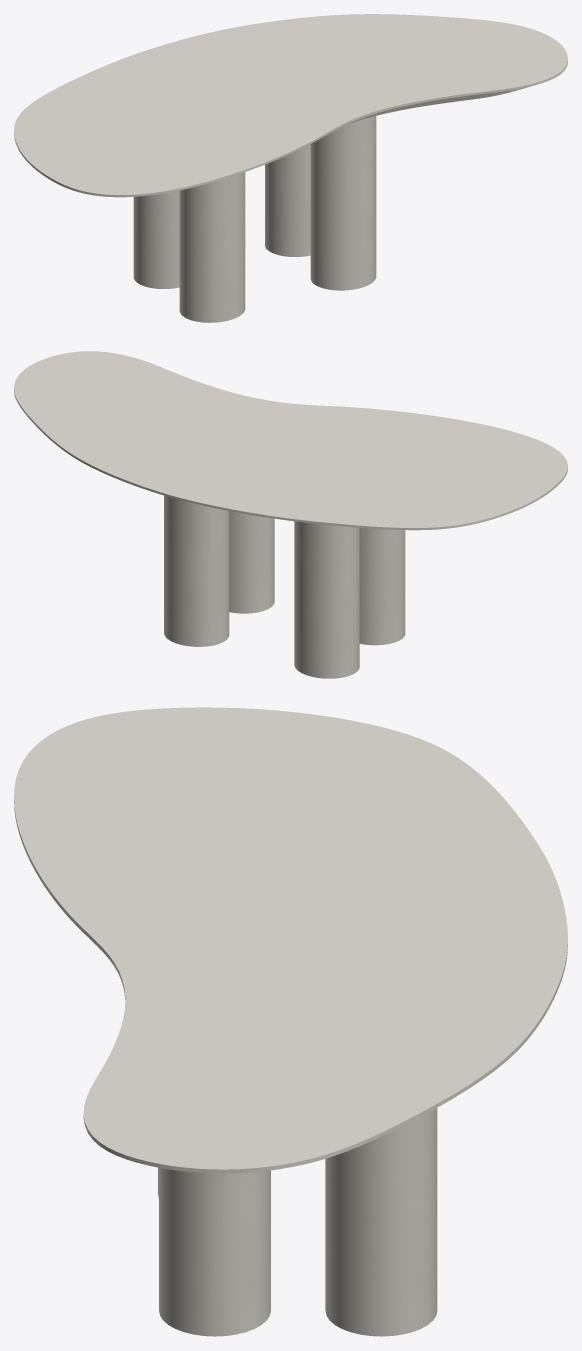
File: pale_leaf1_facet_grove.glb
3 views of the same model, one above another, from view 1: azimuth 30°, elevation 25°; view 2: azimuth 150°, elevation 25°; view 3: azimuth 270°, elevation 25° (orthographic). The views are drawn at different scales.
Visible parts, largest first — view 1: facet_leaf1, grove; view 2: facet_leaf1, grove; view 3: facet_leaf1, grove.
Boxes of the visible parts, bbox=[...] form: facet_leaf1: bbox=[14, 14, 567, 197]; grove: bbox=[133, 116, 376, 322]; facet_leaf1: bbox=[14, 351, 567, 530]; grove: bbox=[164, 495, 405, 678]; facet_leaf1: bbox=[14, 707, 567, 1173]; grove: bbox=[158, 1108, 437, 1336].
Bounding box in the file's own units: 7.5 × 2.51 × 3.8.
Materials: 1 (1 with a texture image).
